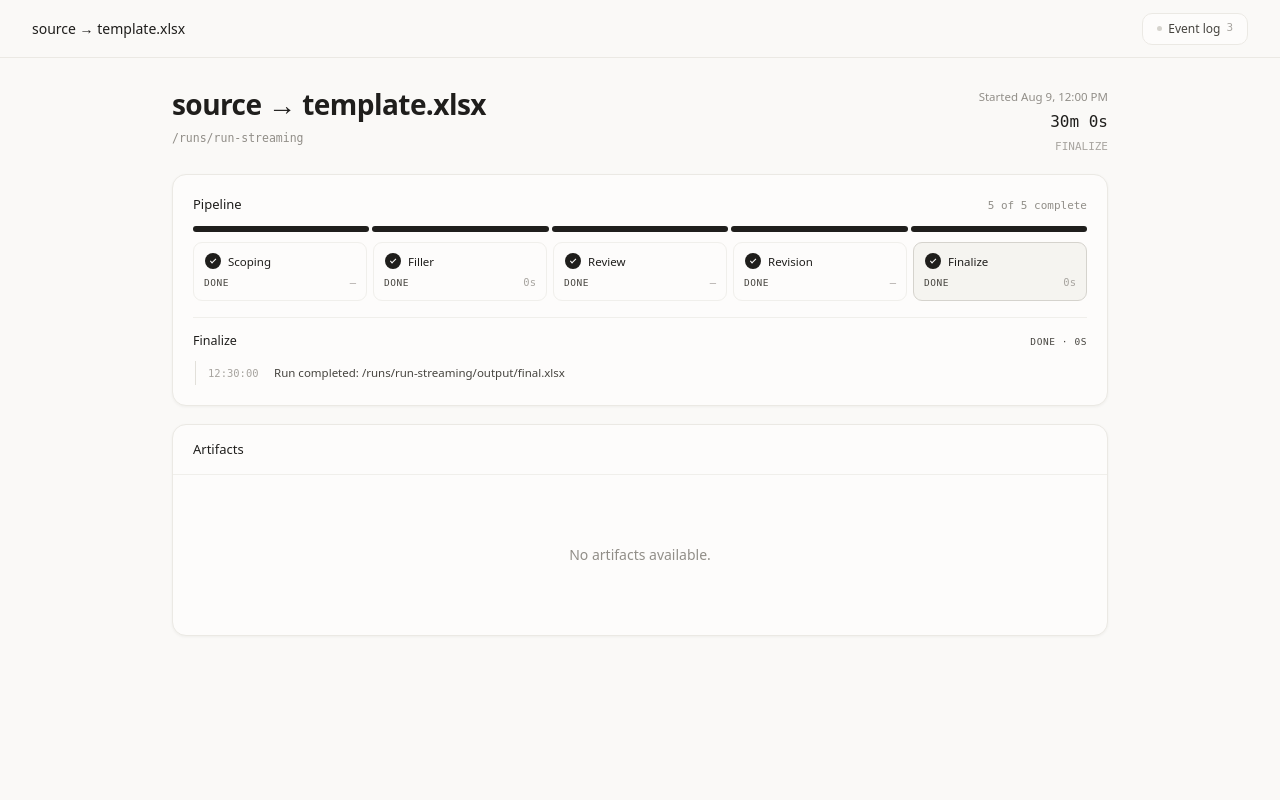
Scenario: run progress › replays a finished run's recorded events instead of its dead socket
Click the text "Filler" at (421, 261), box [408, 253, 434, 270]
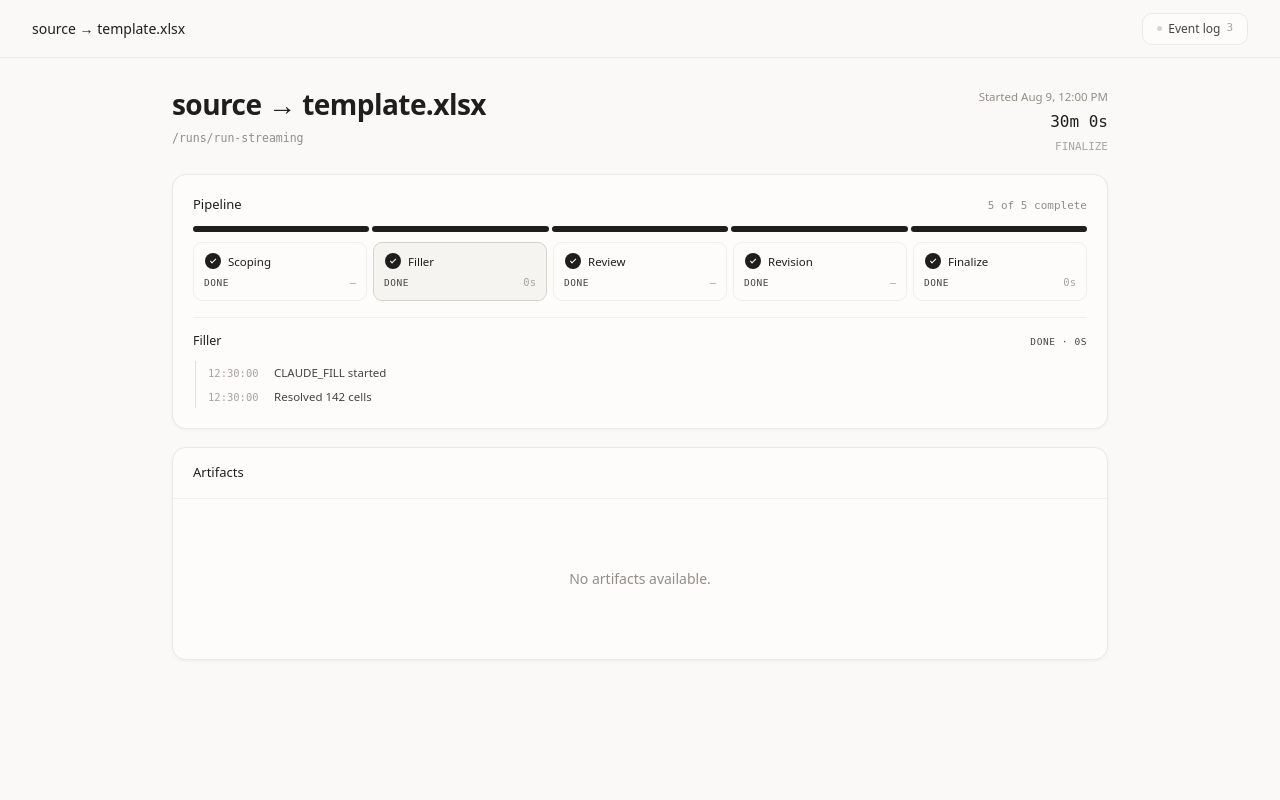
Expected: the text "Resolved 142 cells" is shown, [274, 388, 372, 405]
Click the button "Event log 3" at (1195, 28), box [1142, 12, 1248, 44]
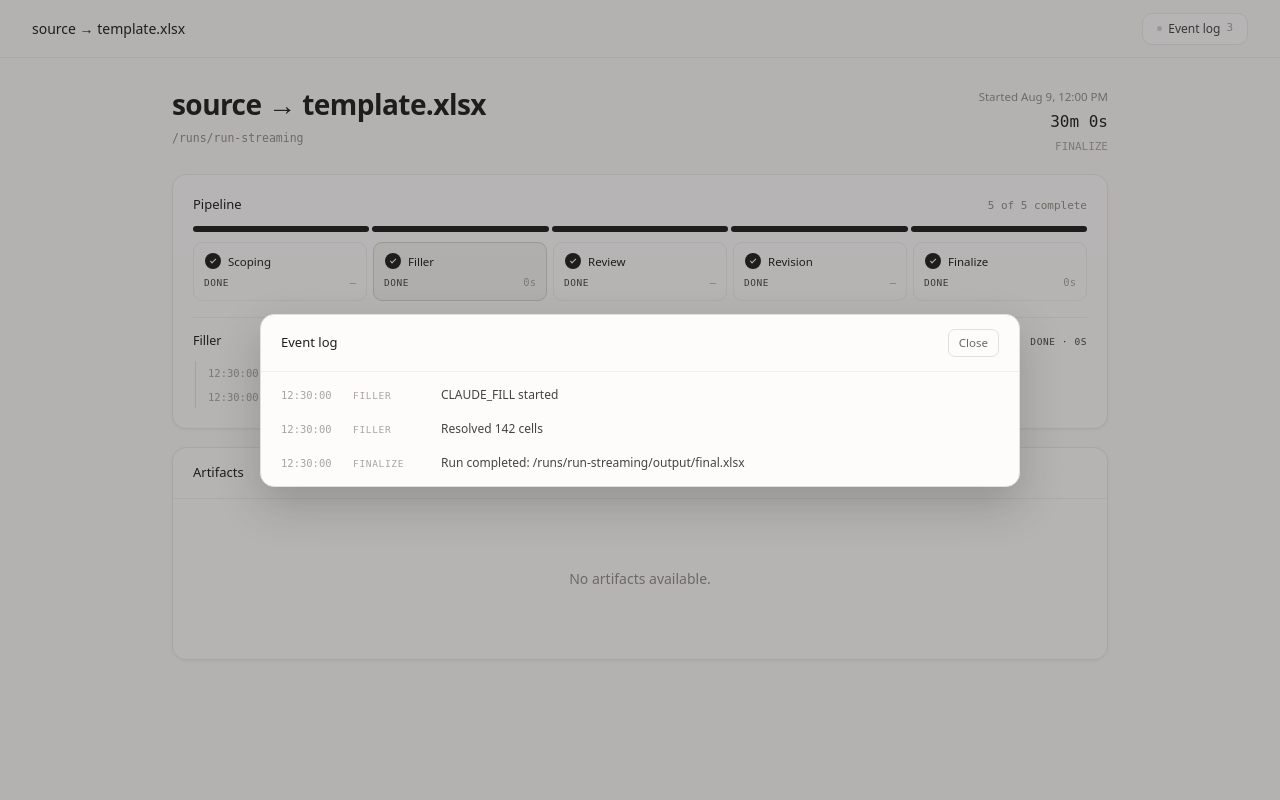
Expected: the text "CLAUDE_FILL started" is shown, [441, 386, 558, 404]
Expected: the text "Resolved 142 cells" is shown, [441, 420, 543, 438]
